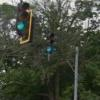Tree: (43, 5, 100, 87)
